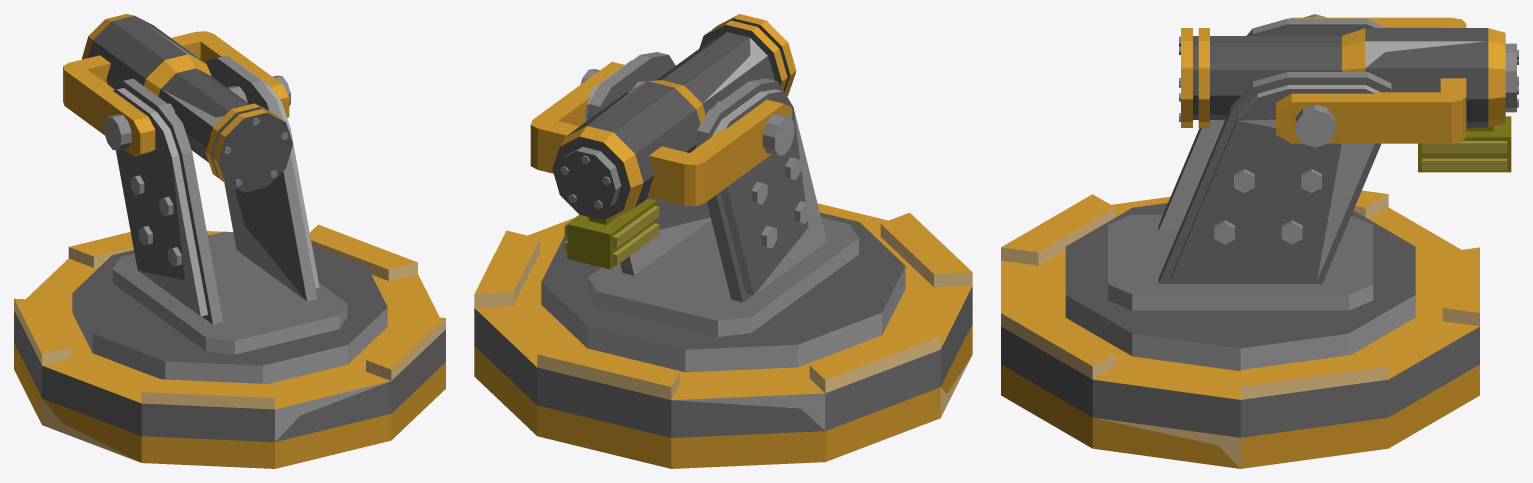
File: minigunBase.fbx
The picture shows the model from 3 angles, left to right: view 1: azimuth 30°, elevation 25°; view 2: azimuth 150°, elevation 25°; view 3: azimuth 270°, elevation 25°; orthographic projection. The views are drawn at different scales.
Visible parts, largest first — view 1: top_minigun_yellow_1, tower_minigun_yellow_1; view 2: top_minigun_yellow_1, tower_minigun_yellow_1; view 3: top_minigun_yellow_1, tower_minigun_yellow_1.
Boxes of the visible parts, x1=… form: top_minigun_yellow_1: x1=63, y1=14, x2=387, y2=383; tower_minigun_yellow_1: x1=14, y1=224, x2=445, y2=468; top_minigun_yellow_1: x1=530, y1=14, x2=905, y2=372; tower_minigun_yellow_1: x1=474, y1=203, x2=972, y2=468; top_minigun_yellow_1: x1=1065, y1=14, x2=1518, y2=371; tower_minigun_yellow_1: x1=1001, y1=190, x2=1479, y2=468.
Size of the model in its own units: 145 by 104 by 149.
